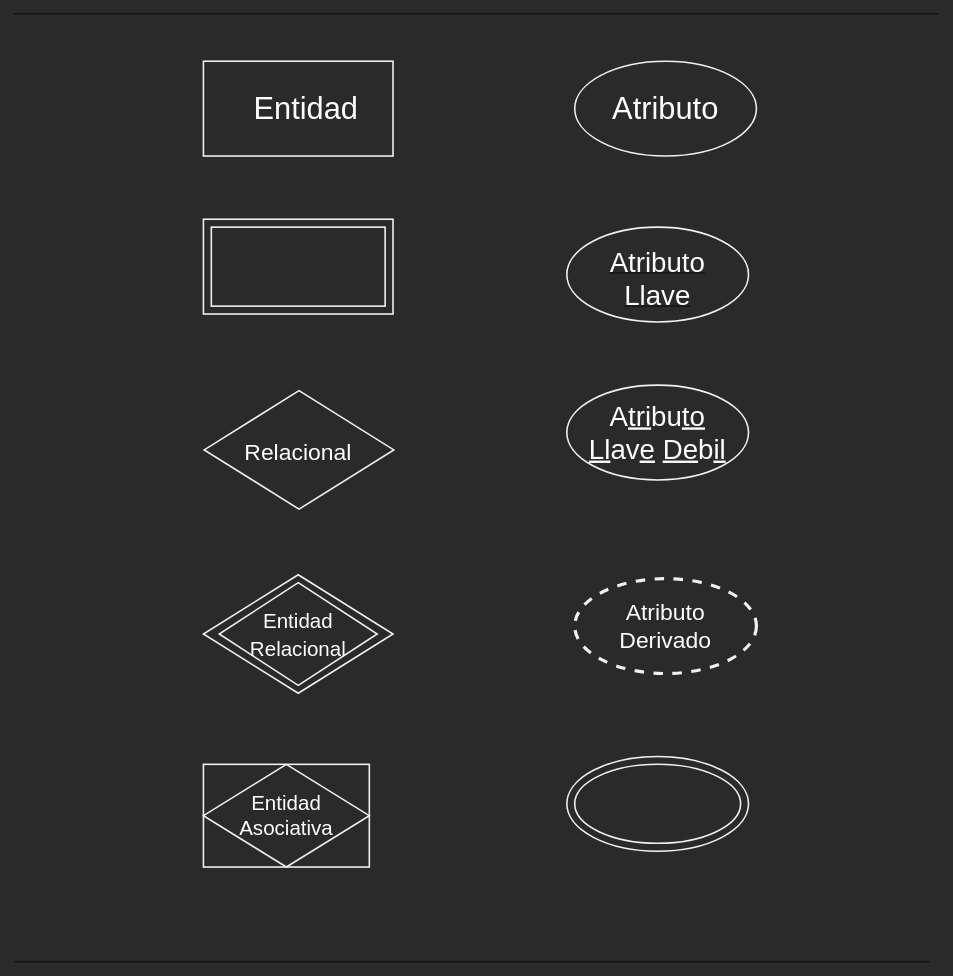
Image size: 953x976. Some labels were removed from this diagram. The shapes that lost their labels are listed below. From the top down, each one's box as (x1, y1, x2, y2) in pixels, then its label:
(210, 226, 386, 307): Entidad Debil
(574, 763, 741, 844): Atributo Multivalor
